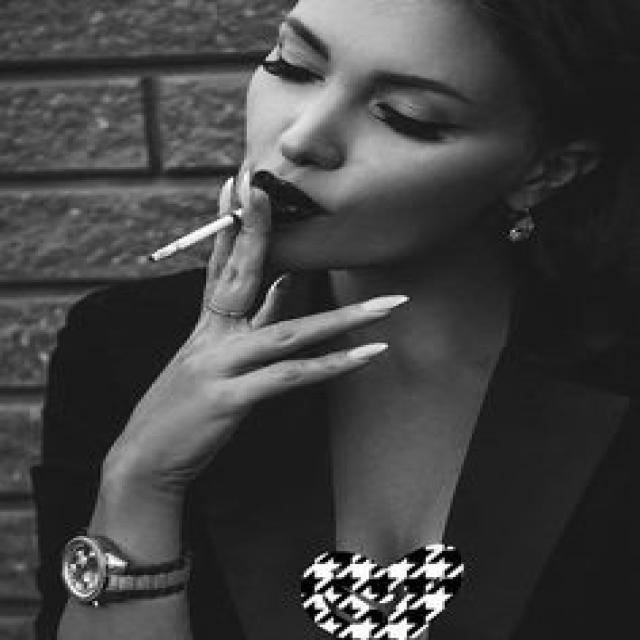rokok: (146, 207, 254, 266)
